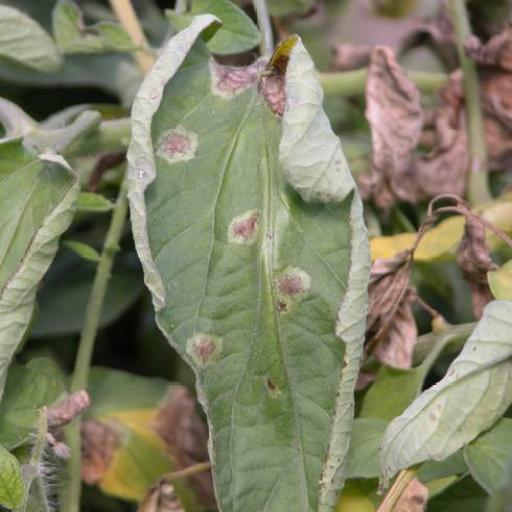Late Blight: (115, 5, 377, 510)
